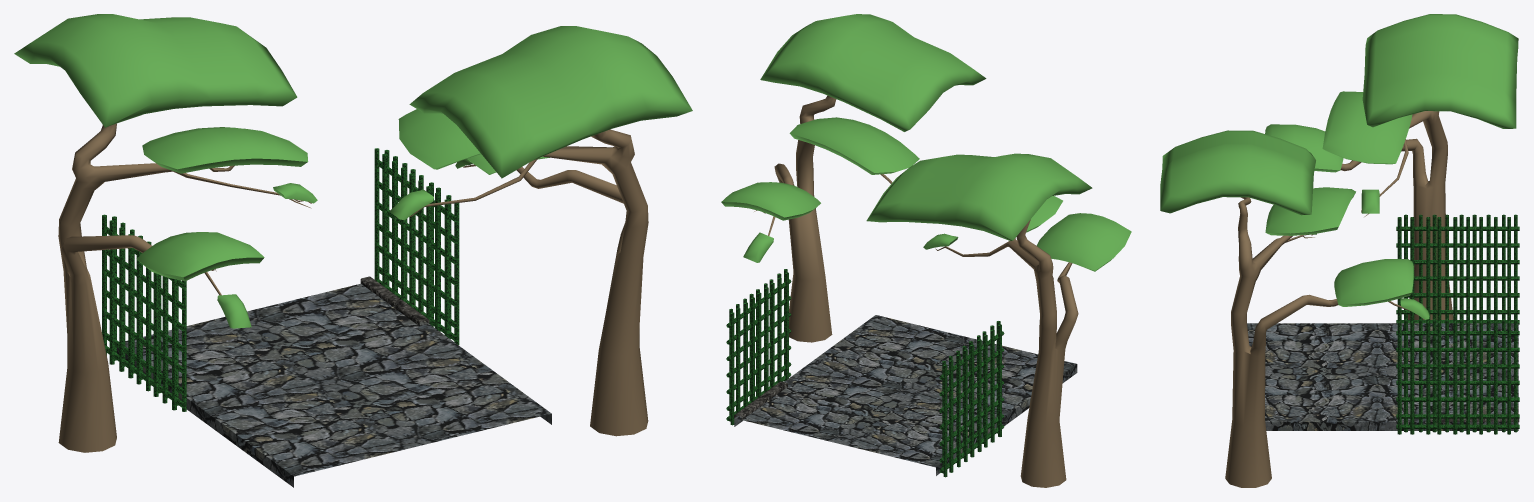
The model's file is ons_pat1.fbx.
The picture shows the model from 3 angles, left to right: view 1: azimuth 30°, elevation 25°; view 2: azimuth 150°, elevation 25°; view 3: azimuth 270°, elevation 25°; orthographic projection. The views are drawn at different scales.
Visible parts, largest first — view 1: cube2, cube, cube13, cylinder56, cylinder57, polymsh1, polymsh3, polymsh_detached3, polymsh_detached5, polymsh_detached, cube12, polymsh4 (+1 smaller); view 2: cube2, cube, cube13, cylinder57, polymsh3, cylinder56, polymsh1, polymsh_detached, polymsh_detached5, polymsh_detached2, polymsh_detached3, polymsh2 (+1 smaller); view 3: cube2, cube13, polymsh1, cube, polymsh3, cylinder56, cylinder57, polymsh_detached3, polymsh_detached2, polymsh_detached, polymsh_detached5, polymsh_detached4.
Part boxes in pixels (x1=…): cube2: x1=117, y1=283, x2=551, y2=487; cube: x1=409, y1=26, x2=692, y2=178; cube13: x1=14, y1=14, x2=297, y2=127; cylinder56: x1=395, y1=129, x2=648, y2=436; cylinder57: x1=58, y1=123, x2=311, y2=452; polymsh1: x1=374, y1=148, x2=459, y2=344; polymsh3: x1=102, y1=214, x2=186, y2=411; polymsh_detached3: x1=142, y1=127, x2=308, y2=173; polymsh_detached5: x1=136, y1=232, x2=264, y2=281; polymsh_detached: x1=398, y1=109, x2=480, y2=169; cube12: x1=360, y1=276, x2=429, y2=325; polymsh4: x1=217, y1=294, x2=251, y2=328; cube2: x1=734, y1=315, x2=1077, y2=475; cube: x1=760, y1=14, x2=986, y2=131; cube13: x1=866, y1=153, x2=1092, y2=240; cylinder57: x1=935, y1=219, x2=1078, y2=487; polymsh3: x1=939, y1=321, x2=1004, y2=477; cylinder56: x1=754, y1=95, x2=892, y2=342; polymsh1: x1=726, y1=269, x2=791, y2=425; polymsh_detached: x1=789, y1=117, x2=919, y2=174; polymsh_detached5: x1=1036, y1=213, x2=1131, y2=271; polymsh_detached2: x1=721, y1=182, x2=820, y2=220; polymsh_detached3: x1=1026, y1=196, x2=1062, y2=232; polymsh2: x1=743, y1=232, x2=773, y2=262; cube2: x1=1247, y1=323, x2=1518, y2=430; cube13: x1=1362, y1=14, x2=1518, y2=128; polymsh1: x1=1396, y1=319, x2=1519, y2=434; cube: x1=1160, y1=130, x2=1315, y2=215; polymsh3: x1=1396, y1=214, x2=1519, y2=324; cylinder56: x1=1225, y1=197, x2=1411, y2=487; cylinder57: x1=1340, y1=111, x2=1453, y2=319; polymsh_detached3: x1=1322, y1=91, x2=1412, y2=164; polymsh_detached2: x1=1334, y1=259, x2=1413, y2=306; polymsh_detached: x1=1265, y1=187, x2=1355, y2=235; polymsh_detached5: x1=1265, y1=124, x2=1343, y2=172; polymsh_detached4: x1=1361, y1=189, x2=1379, y2=213.
Bounding box in the file's own units: 26.86 × 21.2 × 21.98.
